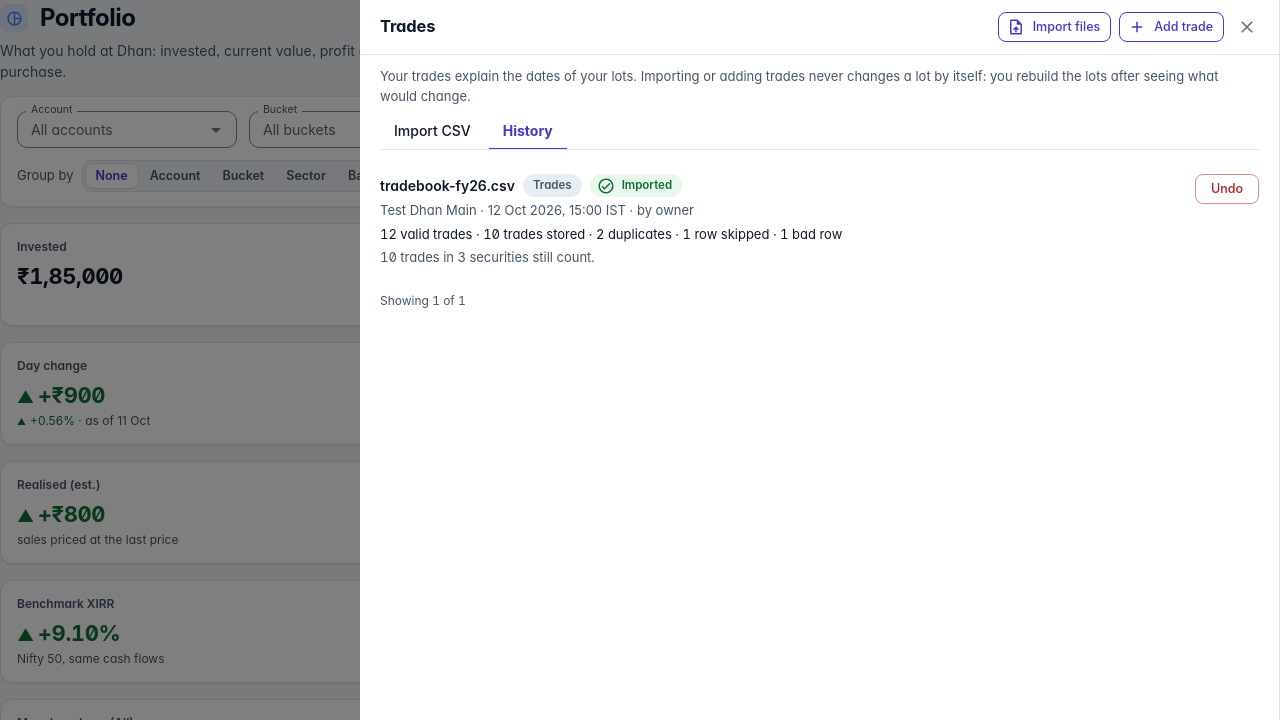
Test case: Undo an import › counts the hand-dated and sync lots that would be replaced, lists what cannot be rebuilt and needs a tick
Click the button with aria-label "Undo the import of tradebook-fy26.csv": x=1227, y=189 [1195,174,1259,204]
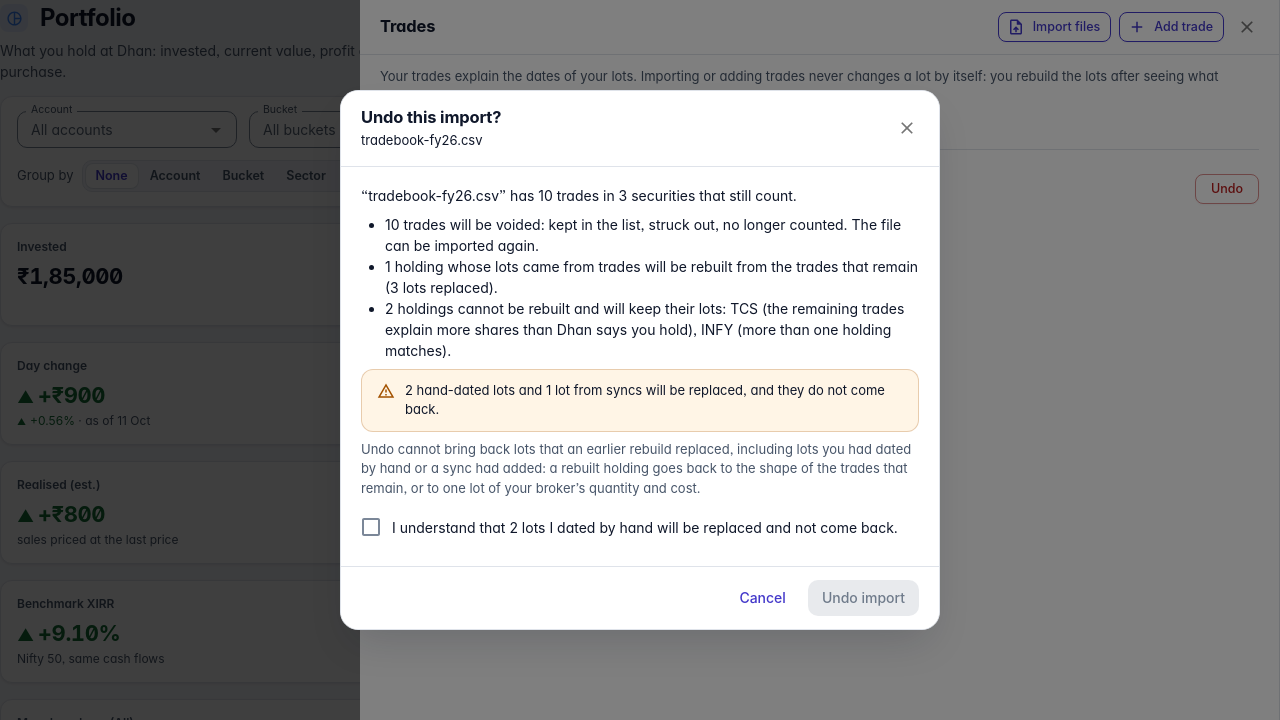
Expected: the text "2 hand-dated lots and 1 lot from syncs will be replaced, and they do not come back." is shown, [405,382,885,417]
Expected: the list item "2 holdings cannot be rebuilt and will keep their lots: TCS (the remaining trades explain more shares than Dhan says you" is shown, [385,300,904,358]
Expected: the button "Undo import" is disabled, [808,580,919,616]
Click the checkbox labelled "I understand that 2 lots I dated by hand will be replaced and not come back": x=628, y=527 [359,515,898,539]
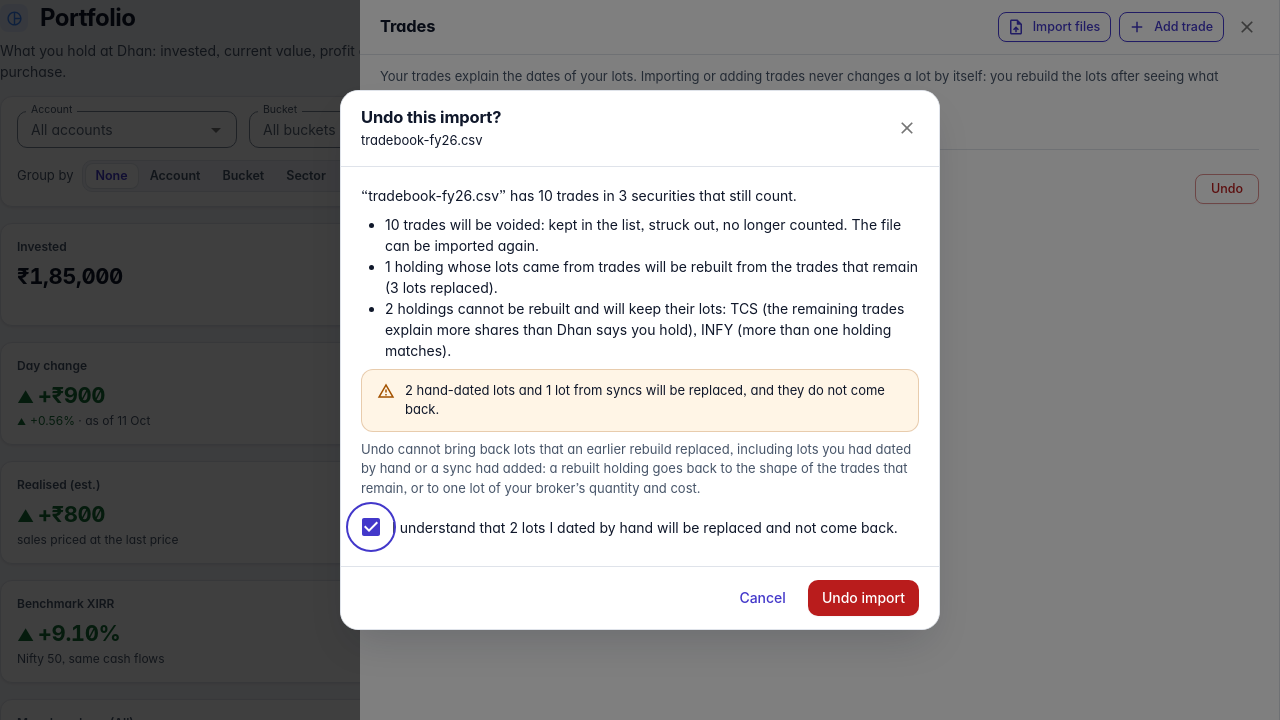
Expected: the button "Undo import" is enabled, [808,580,919,616]
